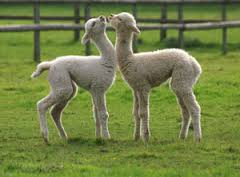alpaca: (108, 12, 202, 143), (29, 15, 116, 143)
